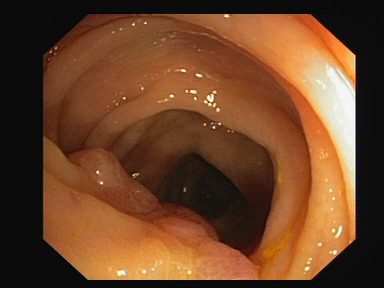polyp: (69, 147, 143, 189), (150, 213, 208, 244), (153, 204, 209, 221)
